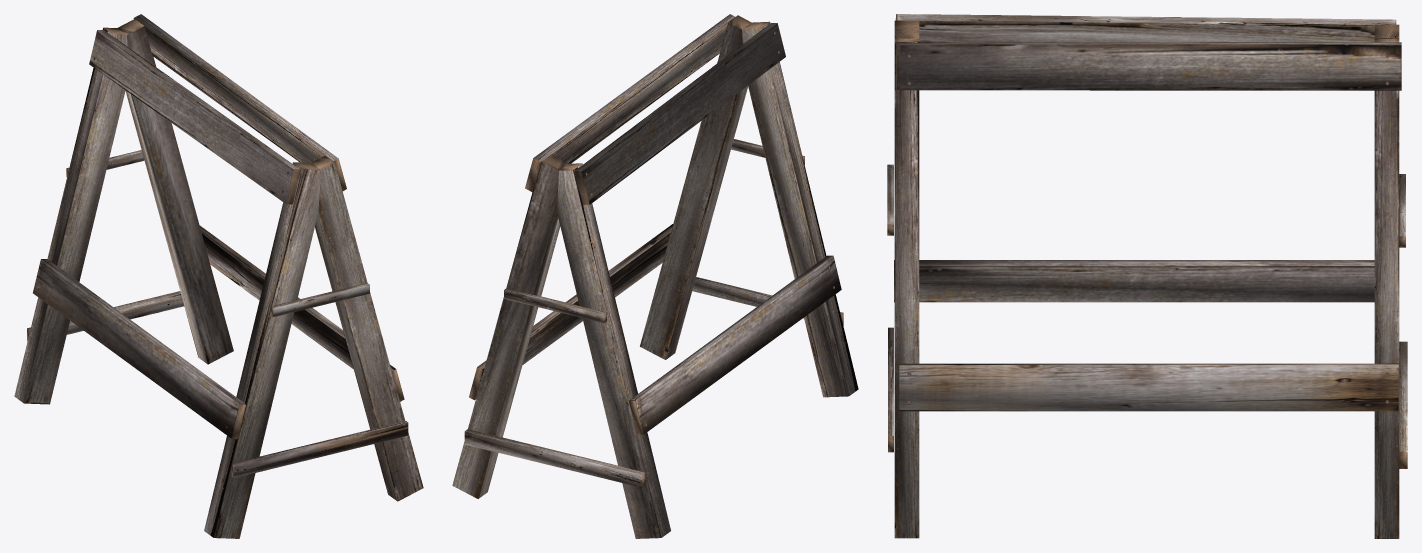
The model's file is cavalete_de_obra.glb.
The picture shows the model from 3 angles, left to right: view 1: azimuth 30°, elevation 25°; view 2: azimuth 150°, elevation 25°; view 3: azimuth 270°, elevation 25°; orthographic projection. The views are drawn at different scales.
Visible parts, largest first — view 1: Cavalete_de_Obra; view 2: Cavalete_de_Obra; view 3: Cavalete_de_Obra.
Boxes of the visible parts, box(x1,y1,x2,y2) form: Cavalete_de_Obra: box(14, 14, 423, 538); Cavalete_de_Obra: box(452, 14, 858, 538); Cavalete_de_Obra: box(887, 14, 1407, 538).
Bounding box in the file's own units: 0.5076 × 0.8266 × 0.8541.
Materials: 1 (1 with a texture image).
